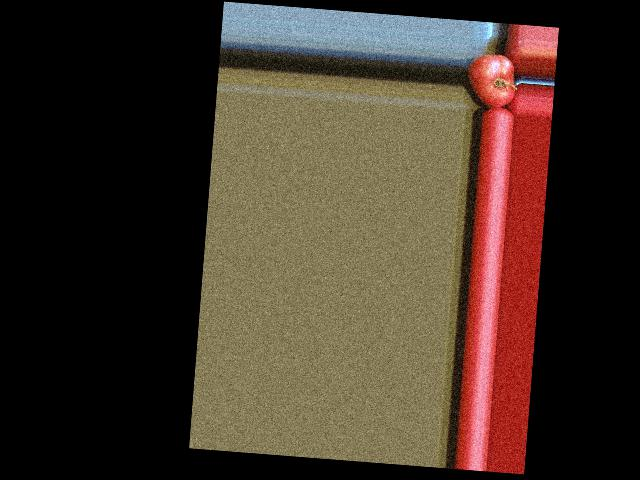tomato: (465, 52, 517, 108)
